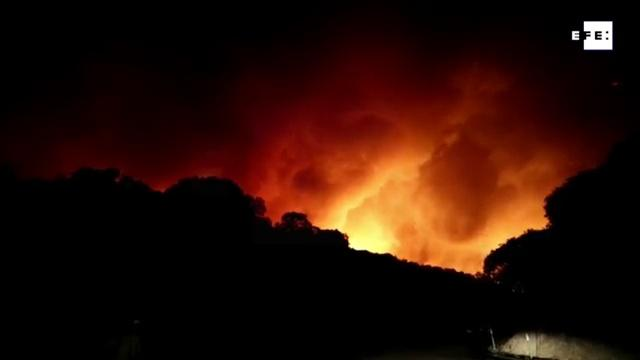fire: (345, 208, 395, 254)
